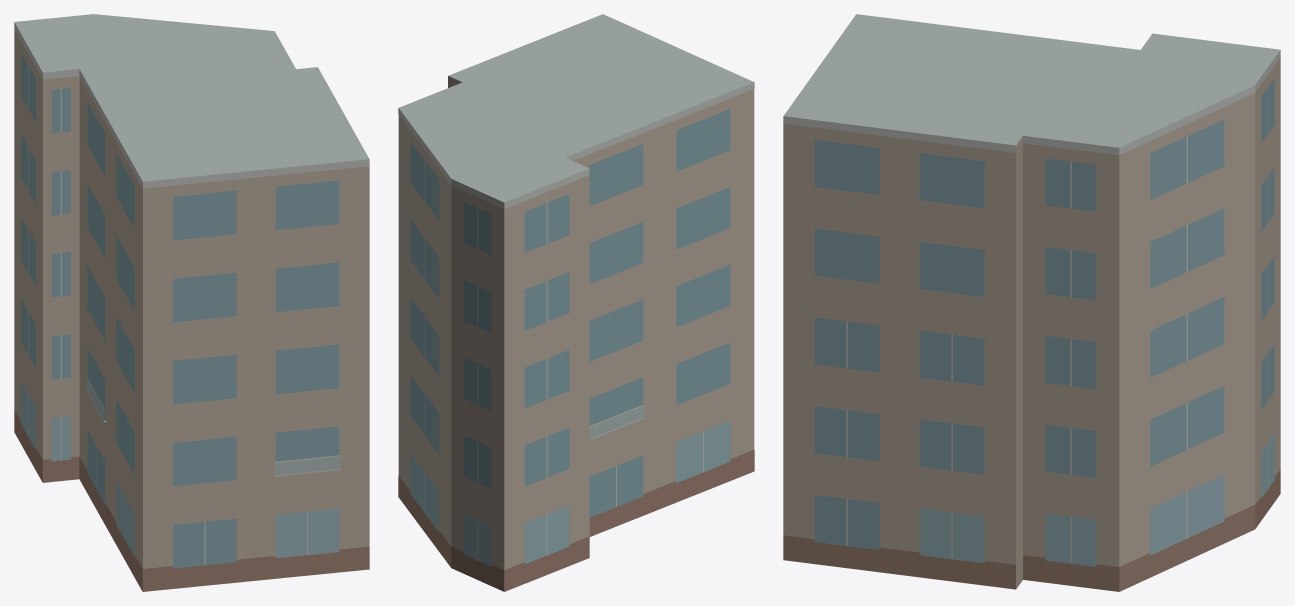
File: survey-upis-33010576.glb
The picture shows the model from 3 angles, left to right: view 1: azimuth 30°, elevation 25°; view 2: azimuth 150°, elevation 25°; view 3: azimuth 270°, elevation 25°; orthographic projection. The views are drawn at different scales.
Parts seen in each view (by area): view 1: survey-upis-33010576.tmp; view 2: survey-upis-33010576.tmp; view 3: survey-upis-33010576.tmp.
Boxes of the visible parts, x1,y1,x2,y2 form: survey-upis-33010576.tmp: [14, 14, 369, 591]; survey-upis-33010576.tmp: [398, 14, 754, 591]; survey-upis-33010576.tmp: [783, 14, 1280, 591].
Size of the model in its own units: 9.32 by 14.4 by 14.62.
